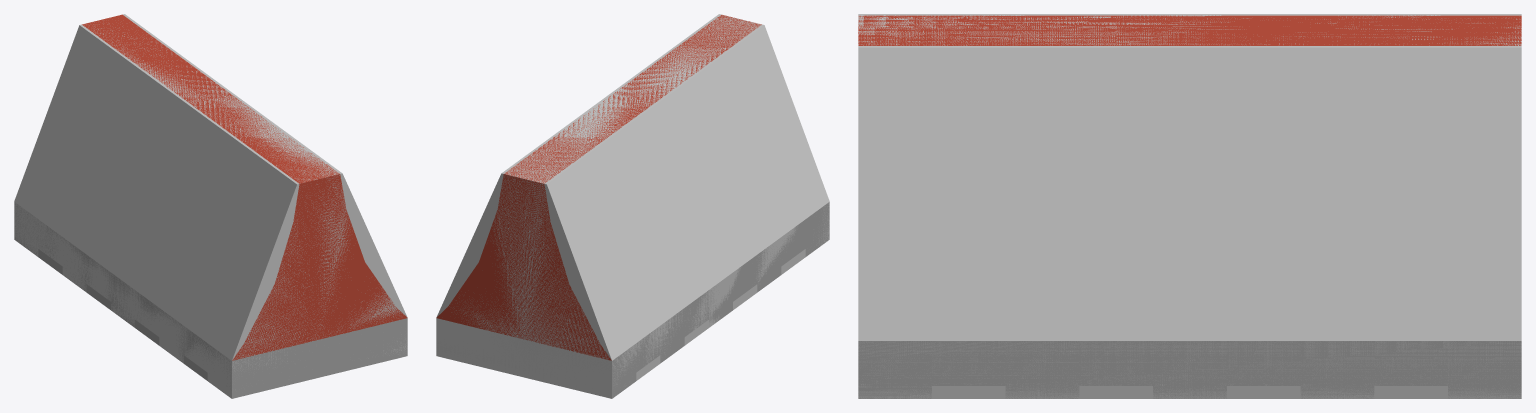
File: SM_PavementBarriers_07.fbx
The picture shows the model from 3 angles, left to right: view 1: azimuth 30°, elevation 25°; view 2: azimuth 150°, elevation 25°; view 3: azimuth 270°, elevation 25°; orthographic projection. The views are drawn at different scales.
Parts seen in each view (by area): view 1: SM_PavementBarriers_07_ConvexHulls, SM_PavementBarriers_07; view 2: SM_PavementBarriers_07_ConvexHulls, SM_PavementBarriers_07; view 3: SM_PavementBarriers_07_ConvexHulls, SM_PavementBarriers_07.
Part boxes in pixels (left/top/right/bottom): SM_PavementBarriers_07_ConvexHulls: left=14, top=14, right=407, bottom=389; SM_PavementBarriers_07: left=14, top=14, right=407, bottom=398; SM_PavementBarriers_07_ConvexHulls: left=436, top=14, right=829, bottom=394; SM_PavementBarriers_07: left=436, top=15, right=829, bottom=398; SM_PavementBarriers_07_ConvexHulls: left=858, top=14, right=1521, bottom=398; SM_PavementBarriers_07: left=858, top=15, right=1521, bottom=398.
Bounding box in the file's own units: 66.81 × 143 × 72.08.
2 materials, 1 textured.
